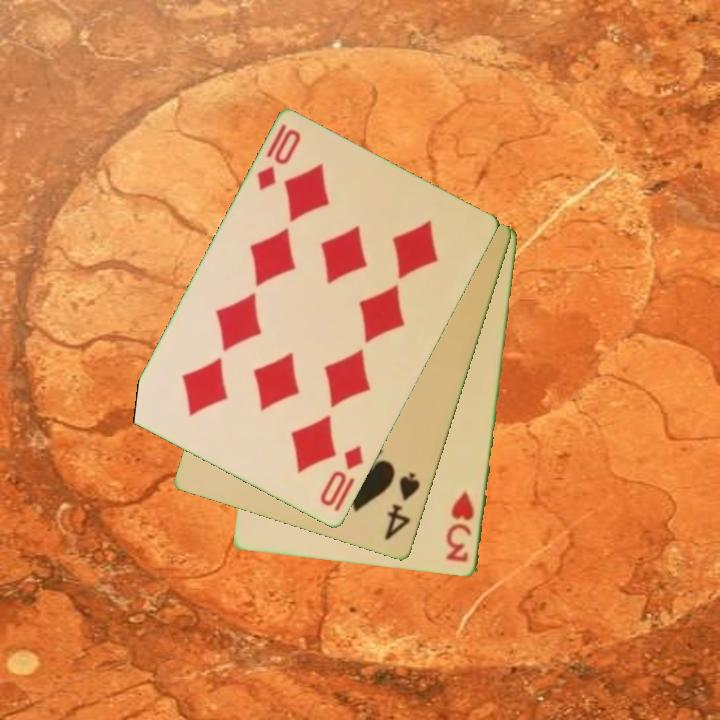10d: (253, 120, 304, 194), (316, 442, 367, 510)
3h: (443, 488, 478, 566)
4s: (381, 469, 424, 544)
